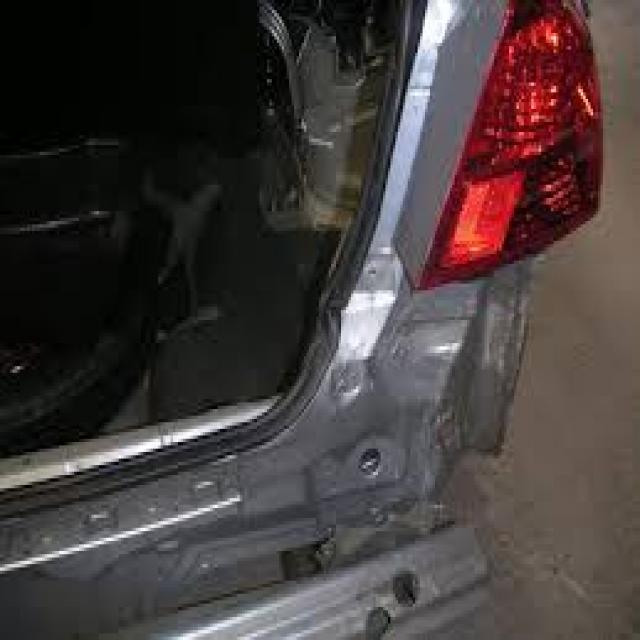minor: (304, 26, 560, 529)
